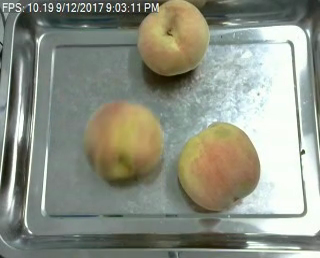Peach: (177, 120, 261, 211), (84, 100, 163, 182), (137, 0, 209, 77)
